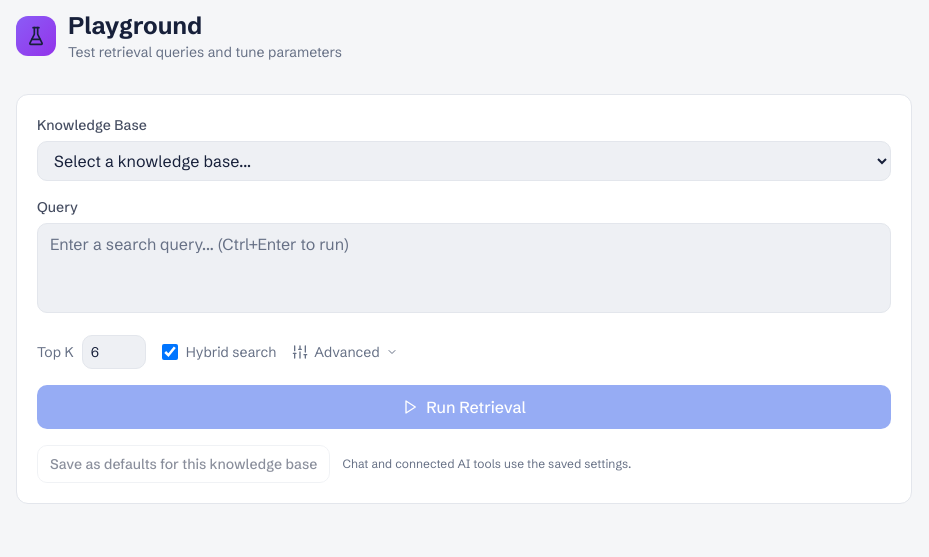
PlaygroundPage: retrieval settings › shows why saving failed
Select "Handbook" in the dropdown named "Knowledge base": (464,161) [37,141,891,181]
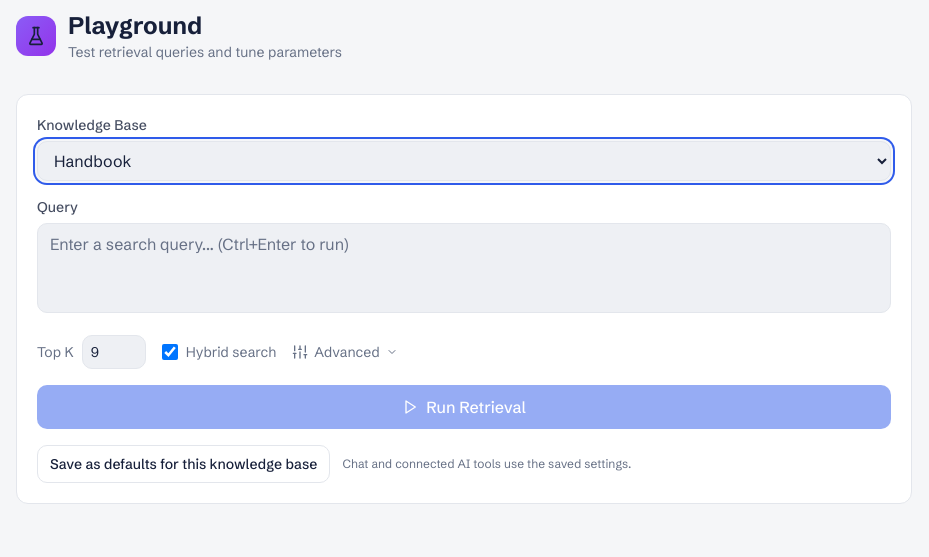
expect the number field named "Top K" holds "9": met, box [82,335,146,369]
Click the button "Save as defaults for this knowledge base": (184,464) [37,445,330,483]
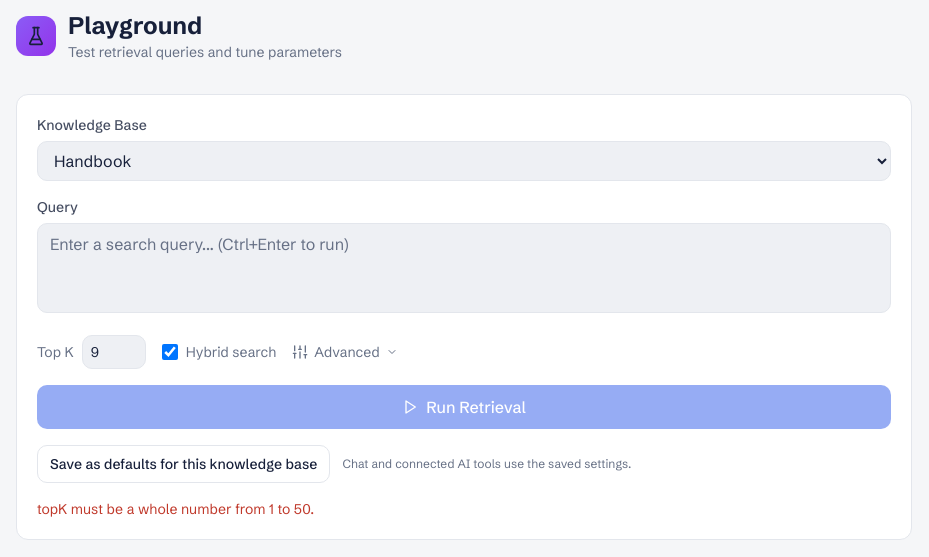
expect the message shows "topK must be a whole number": met, box [37,500,314,518]
